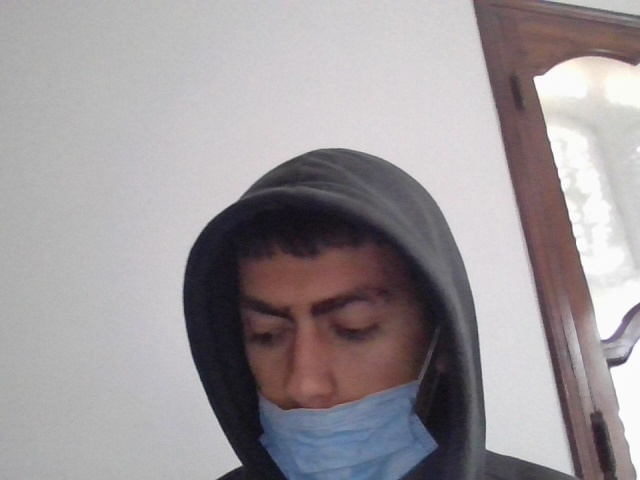mask_weared_incorrect: (226, 187, 463, 480)
